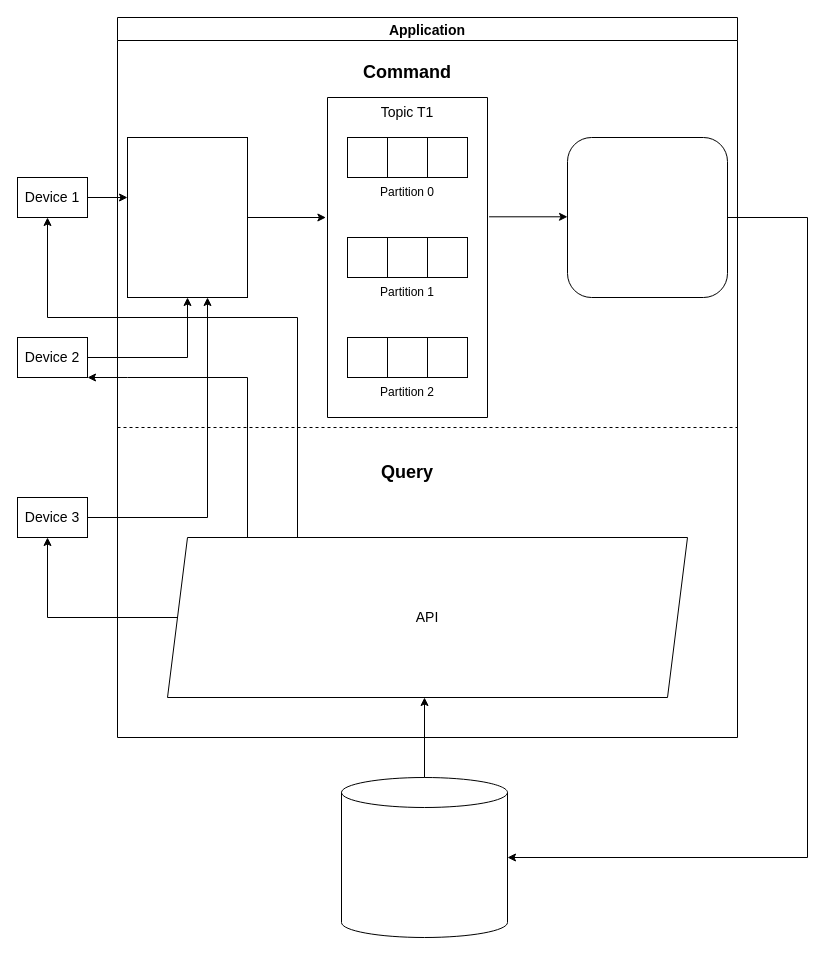
Image size: 833x955. Some labels were removed from this diagram. The centre of each missing label's shape, as x and y in pixels:
"Consumer" goes at point (647, 217).
"NoSQL Database" goes at point (424, 857).
"Producer client" goes at point (187, 217).
